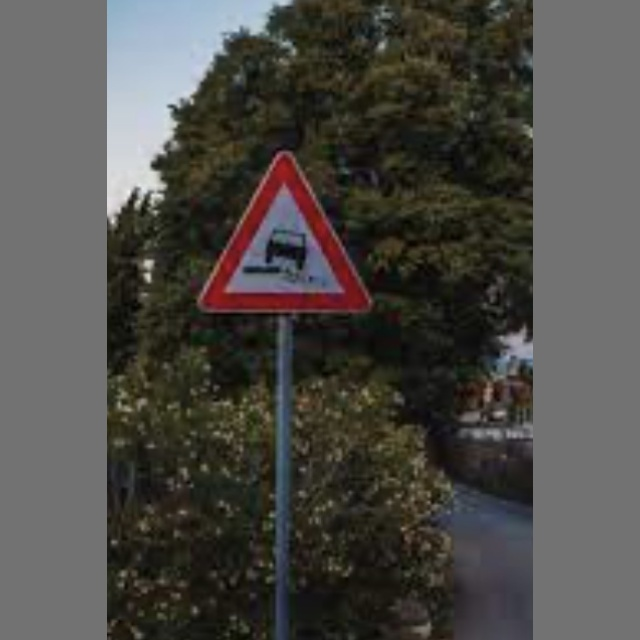Loose_Gravel: (211, 156, 366, 313)
